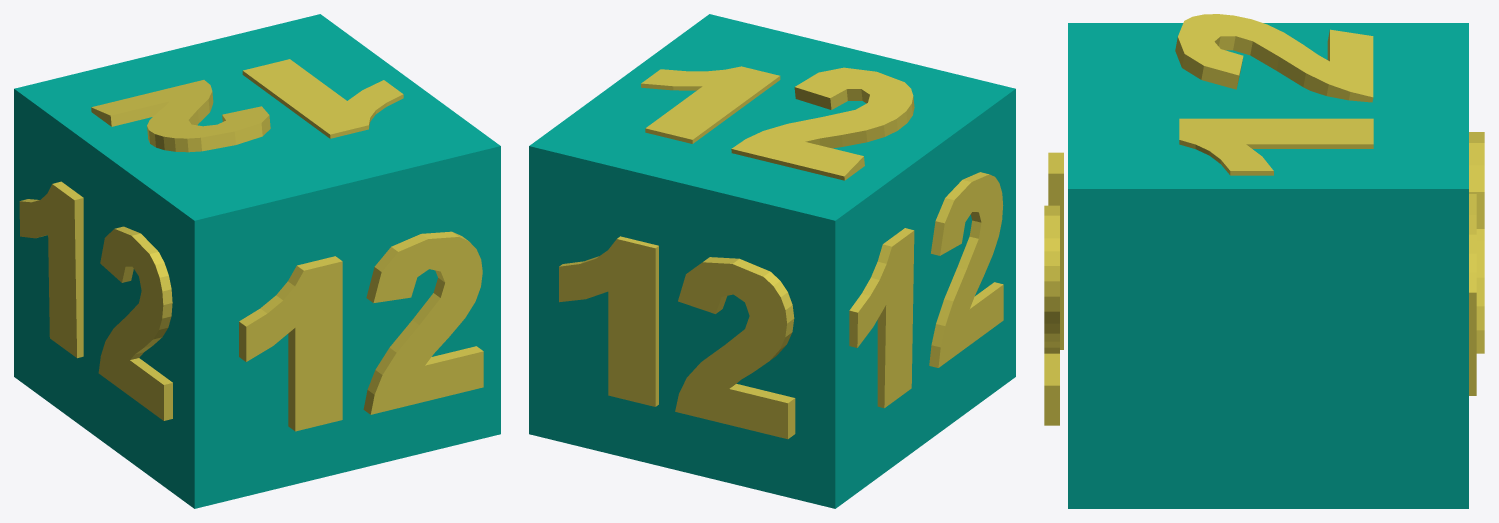
Rendered from number12.glb.
3 renders of one model, left to right at view 1: azimuth 30°, elevation 25°; view 2: azimuth 150°, elevation 25°; view 3: azimuth 270°, elevation 25°, orthographic. The views are drawn at different scales.
Parts seen in each view (by area): view 1: Mesh_Mesh_head_geo.001_lambert2SG.001; view 2: Mesh_Mesh_head_geo.001_lambert2SG.001; view 3: Mesh_Mesh_head_geo.001_lambert2SG.001.
Boxes of the visible parts, <box> form: Mesh_Mesh_head_geo.001_lambert2SG.001: <box>14,14,500,508</box>; Mesh_Mesh_head_geo.001_lambert2SG.001: <box>529,14,1015,508</box>; Mesh_Mesh_head_geo.001_lambert2SG.001: <box>1044,14,1484,508</box>.
Size of the model in its own units: 0.102 by 0.0987 by 0.111.
